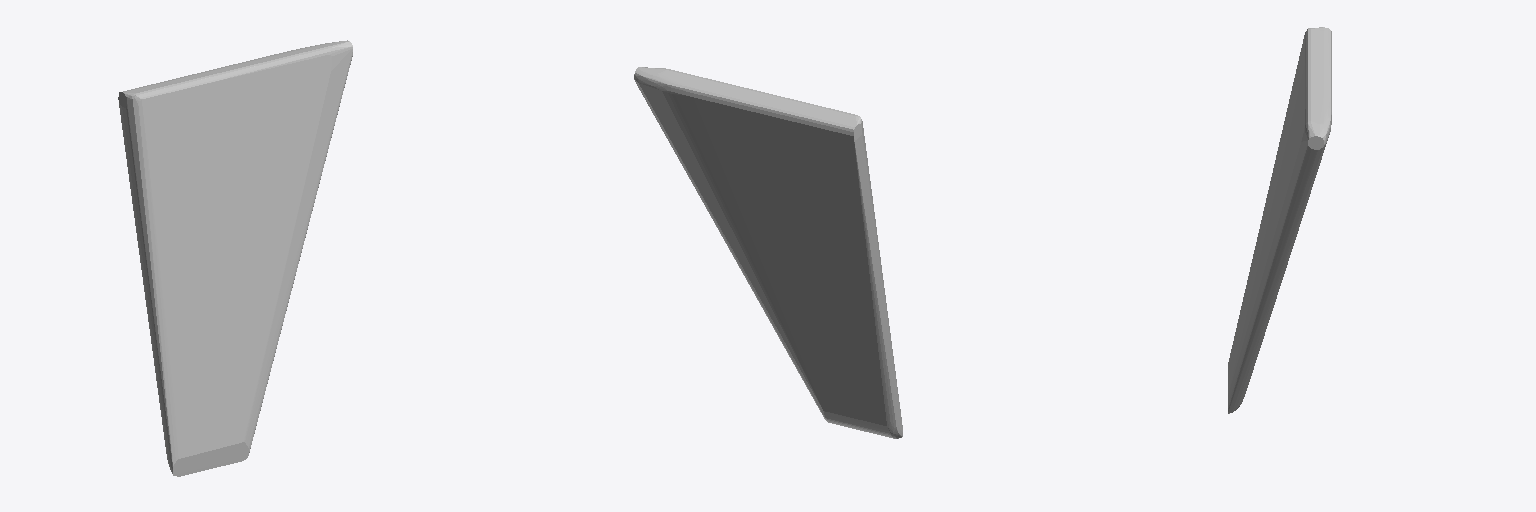
The model's file is dish_rack_collision_21.obj.
3 views of the same model, side by side, from view 1: azimuth 30°, elevation 25°; view 2: azimuth 150°, elevation 25°; view 3: azimuth 270°, elevation 25° (orthographic).
Bounding box in the file's own units: 0.1407 × 0.2123 × 0.0567.